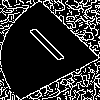I: (25, 25, 77, 71)
